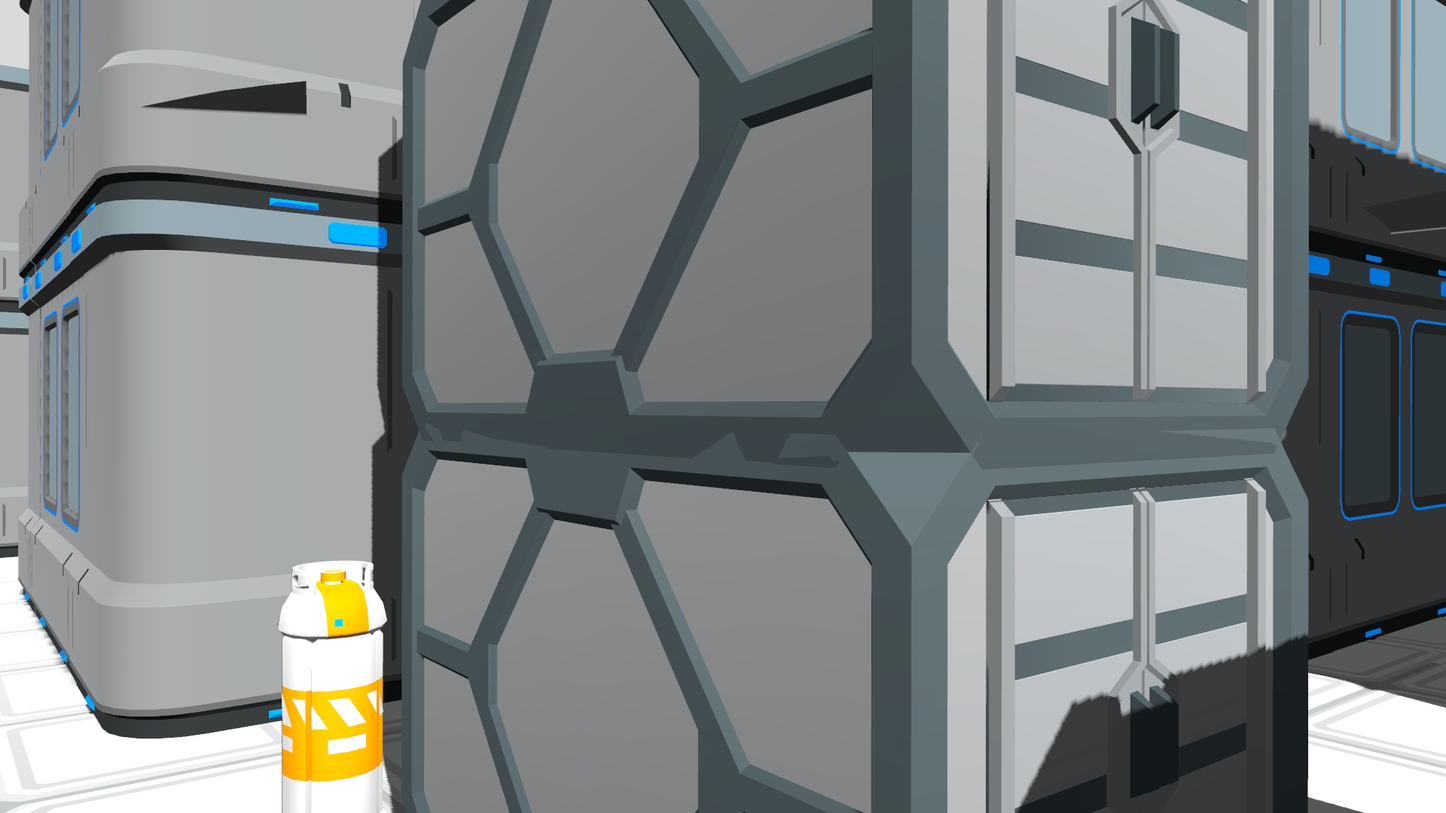yellow_barrel: (269, 554, 390, 813)
